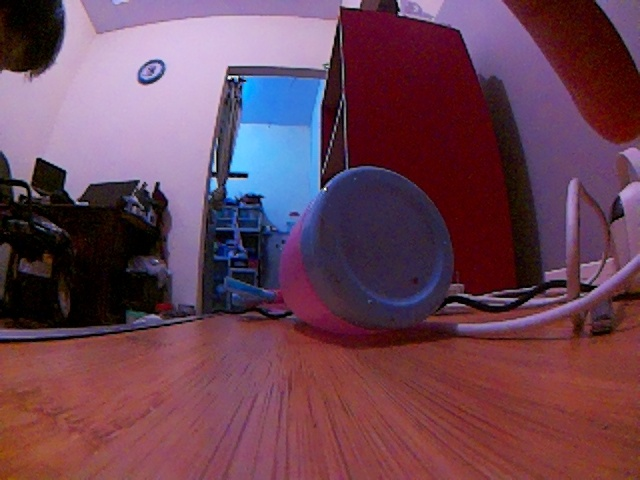korban: (270, 172, 468, 341)
